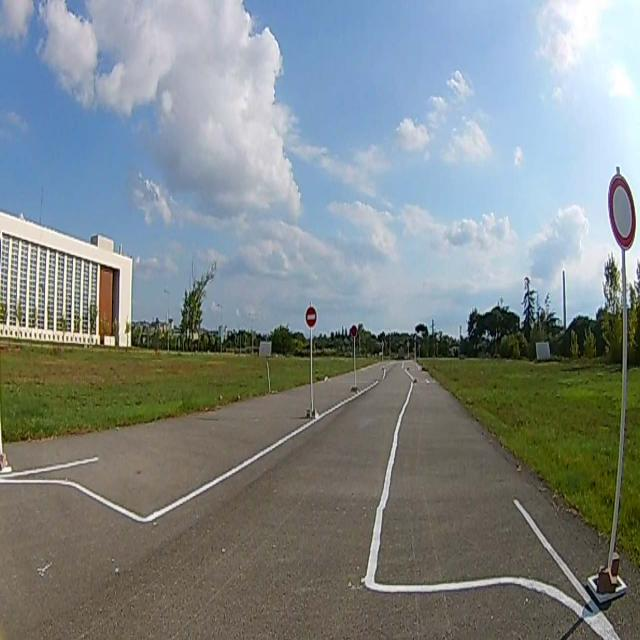girisyok: (305, 307, 317, 327)
